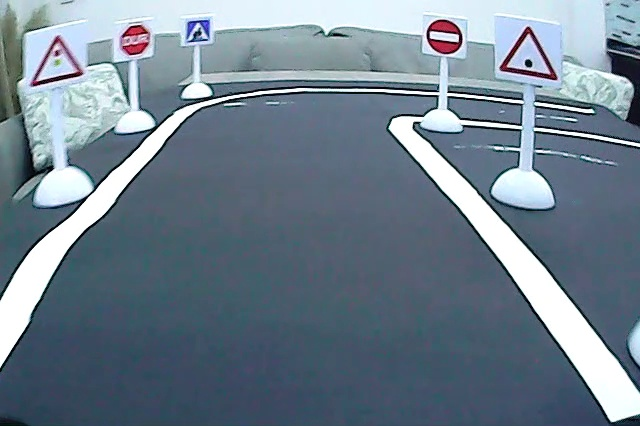do not enter: (425, 17, 465, 57)
green light: (495, 20, 562, 84)
red light: (27, 30, 86, 88)
school crossing: (185, 18, 212, 45)
stop sign: (118, 20, 154, 59)
